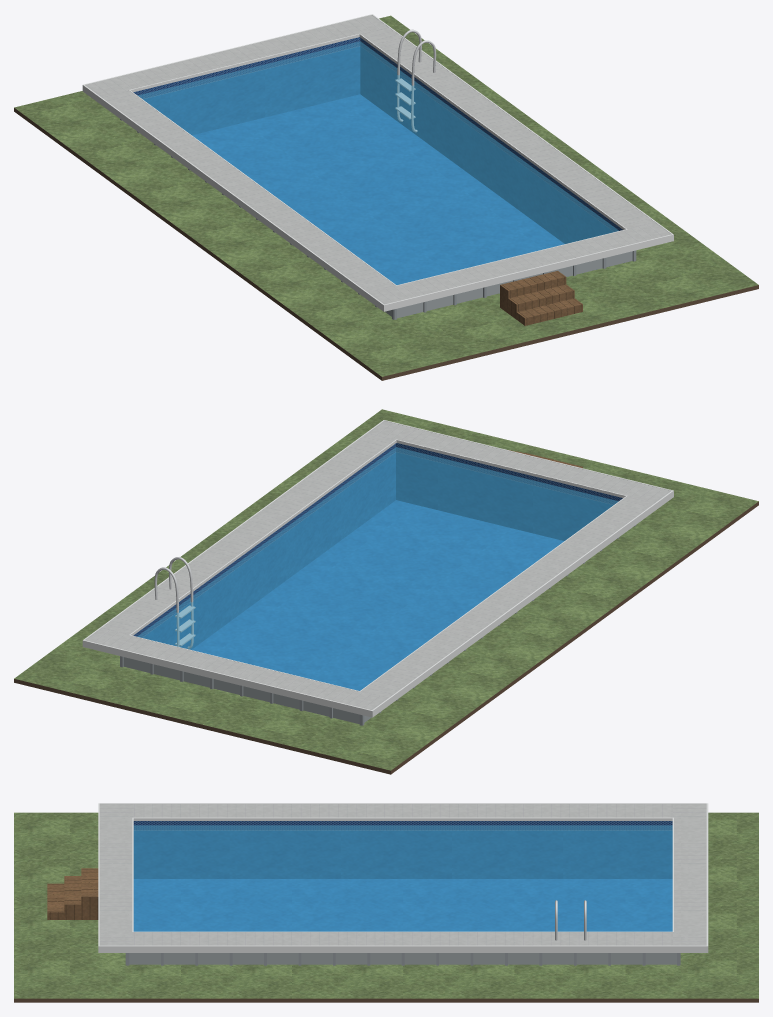
The model's file is kayak-pool-16x32-gray-walk-rec-nofence.3e3c13e6ba.glb.
3 views of the same model, one above another, from view 1: azimuth 30°, elevation 25°; view 2: azimuth 150°, elevation 25°; view 3: azimuth 270°, elevation 25° (orthographic).
Visible parts, largest first — view 1: water, ground, liner_floor, liner_wall, deck, fascia, soil, steps, wall, steel; view 2: water, ground, liner_floor, liner_wall, deck, fascia, soil, wall, steel; view 3: water, ground, liner_wall, liner_floor, deck, fascia, wall, soil, steps, upright.
Boxes of the visible parts, box(x1,y1,x2,y2) form: water: box(138, 41, 618, 284); ground: box(14, 15, 758, 376); liner_floor: box(192, 94, 564, 284); liner_wall: box(133, 37, 622, 243); deck: box(85, 15, 671, 304); fascia: box(82, 14, 673, 311); soil: box(14, 108, 758, 380); steps: box(500, 271, 582, 325); wall: box(385, 251, 632, 318); steel: box(395, 29, 436, 132); water: box(137, 447, 618, 690); ground: box(14, 409, 758, 770); liner_floor: box(192, 500, 563, 690); liner_wall: box(133, 443, 622, 649); deck: box(85, 421, 670, 710); fascia: box(82, 420, 673, 717); soil: box(14, 501, 758, 774); wall: box(123, 657, 371, 723); steel: box(154, 557, 195, 648); water: box(133, 825, 672, 931); ground: box(14, 812, 758, 998); liner_wall: box(133, 821, 672, 878); liner_floor: box(133, 879, 672, 931); deck: box(99, 804, 706, 945); fascia: box(98, 803, 708, 952); wall: box(129, 953, 676, 964); soil: box(14, 998, 758, 1002); steps: box(47, 868, 98, 919); upright: box(125, 953, 680, 965).
Size of the model in its own units: 7.92 by 1.9 by 13.4.
Materials: 12 (5 with a texture image).
